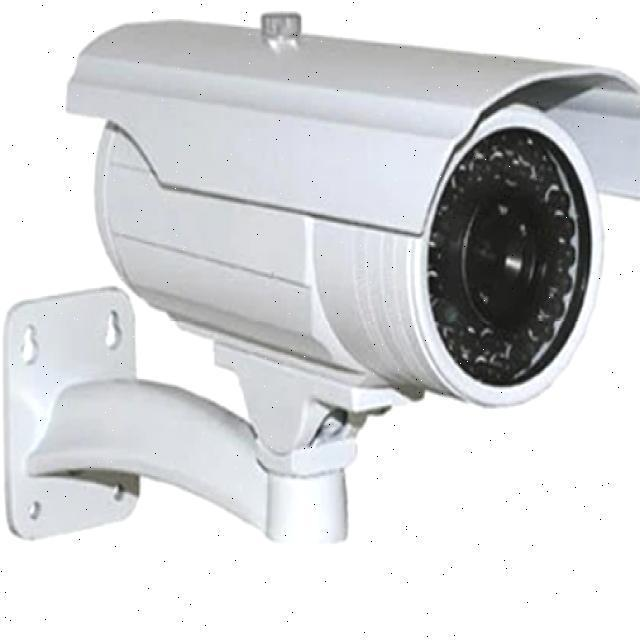cctv: (51, 19, 640, 480)
